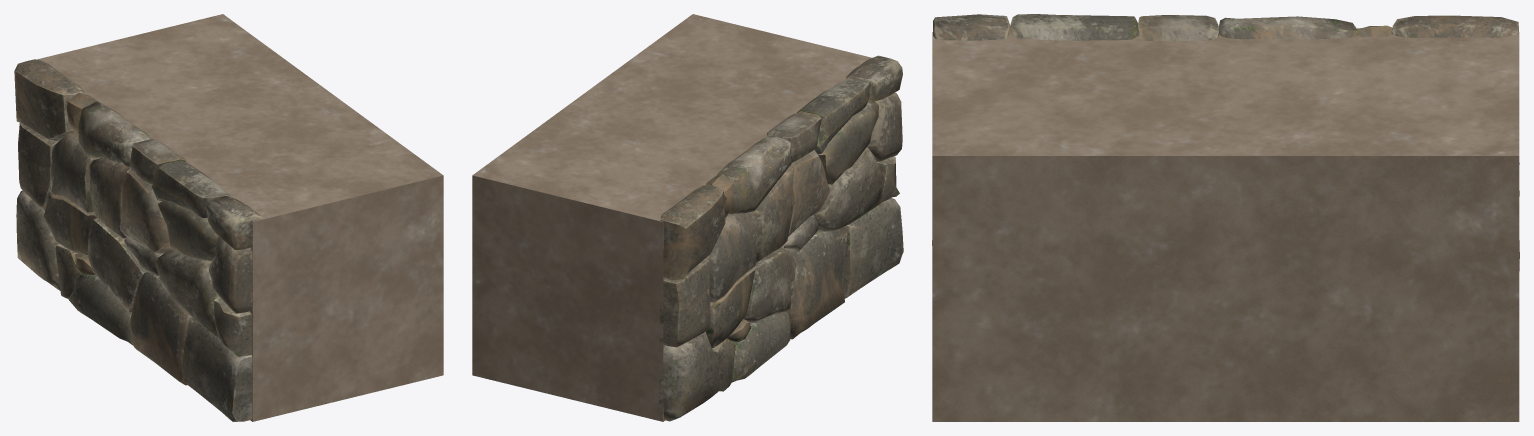
File: SM_Gidan03b.fbx
The picture shows the model from 3 angles, left to right: view 1: azimuth 30°, elevation 25°; view 2: azimuth 150°, elevation 25°; view 3: azimuth 270°, elevation 25°; orthographic projection. The views are drawn at different scales.
Parts seen in each view (by area): view 1: SM_Gidan03b; view 2: SM_Gidan03b; view 3: SM_Gidan03b.
Part boxes in pixels (x1,y1,x2,y2): SM_Gidan03b: (14, 14, 443, 421); SM_Gidan03b: (472, 14, 903, 421); SM_Gidan03b: (932, 14, 1519, 421).
Size of the model in its own units: 168 by 300 by 155.
Materials: 2 (2 with a texture image).
